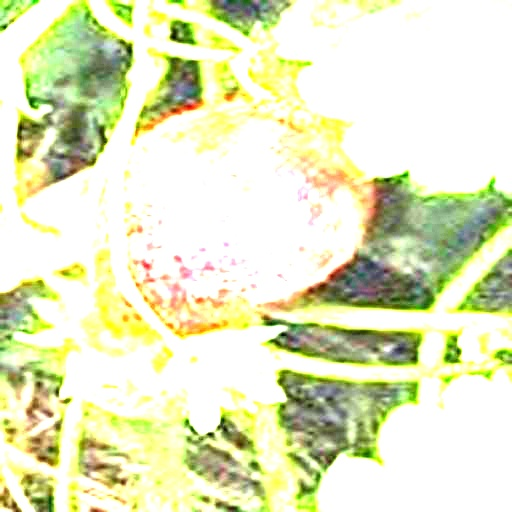Powdery Mildew Fruit: (90, 103, 373, 335)
